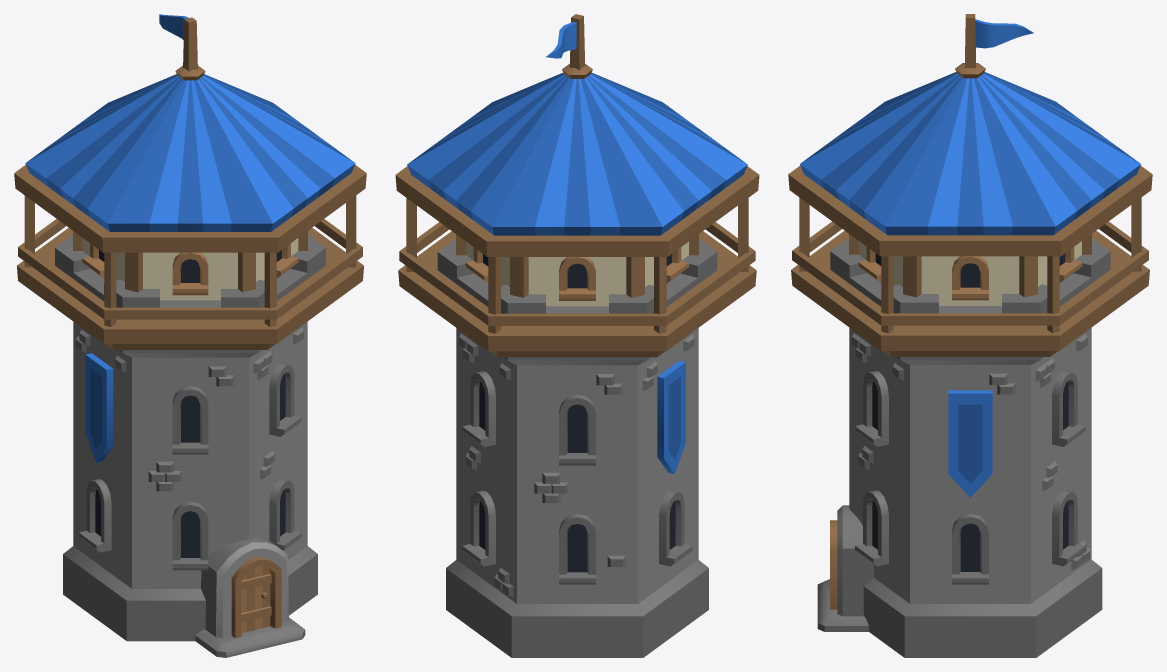
File: tower.glb
3 renders of one model, left to right at view 1: azimuth 30°, elevation 25°; view 2: azimuth 150°, elevation 25°; view 3: azimuth 270°, elevation 25°, orthographic. The views are drawn at different scales.
Visible parts, largest first — view 1: building_tower_B_blue; view 2: building_tower_B_blue; view 3: building_tower_B_blue.
Boxes of the visible parts, x1=… form: building_tower_B_blue: x1=14, y1=14, x2=366, y2=657; building_tower_B_blue: x1=395, y1=14, x2=759, y2=657; building_tower_B_blue: x1=788, y1=14, x2=1152, y2=657.
Bounding box in the file's own units: 0.6974 × 1.45 × 0.8053.
